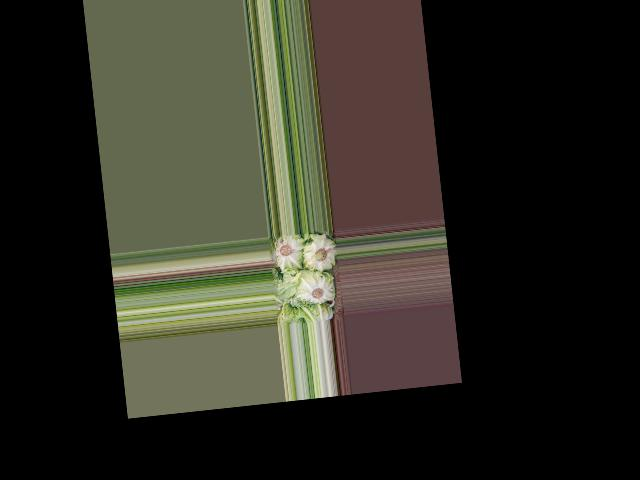lettuce: (272, 233, 306, 271)
